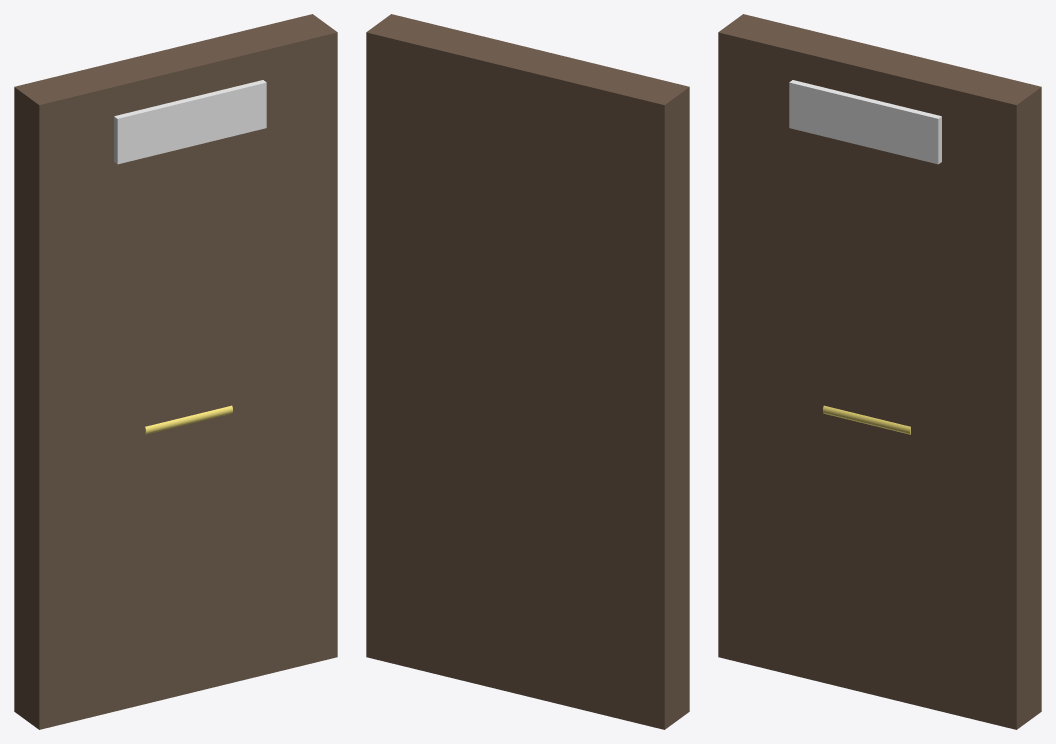
Rendered from amphi_door.glb.
3 renders of one model, left to right at view 1: azimuth 30°, elevation 25°; view 2: azimuth 150°, elevation 25°; view 3: azimuth 330°, elevation 25°, orthographic.
Visible parts, largest first — view 1: Cube, Cube.003; view 2: Cube; view 3: Cube, Cube.003.
Part boxes in pixels (bbox=[...]): Cube: bbox=[14, 14, 337, 729]; Cube.003: bbox=[114, 80, 266, 164]; Cube: bbox=[366, 14, 689, 729]; Cube: bbox=[718, 14, 1041, 729]; Cube.003: bbox=[789, 80, 941, 164].
Bounding box in the file's own units: 2.4 × 4.8 × 0.4.
